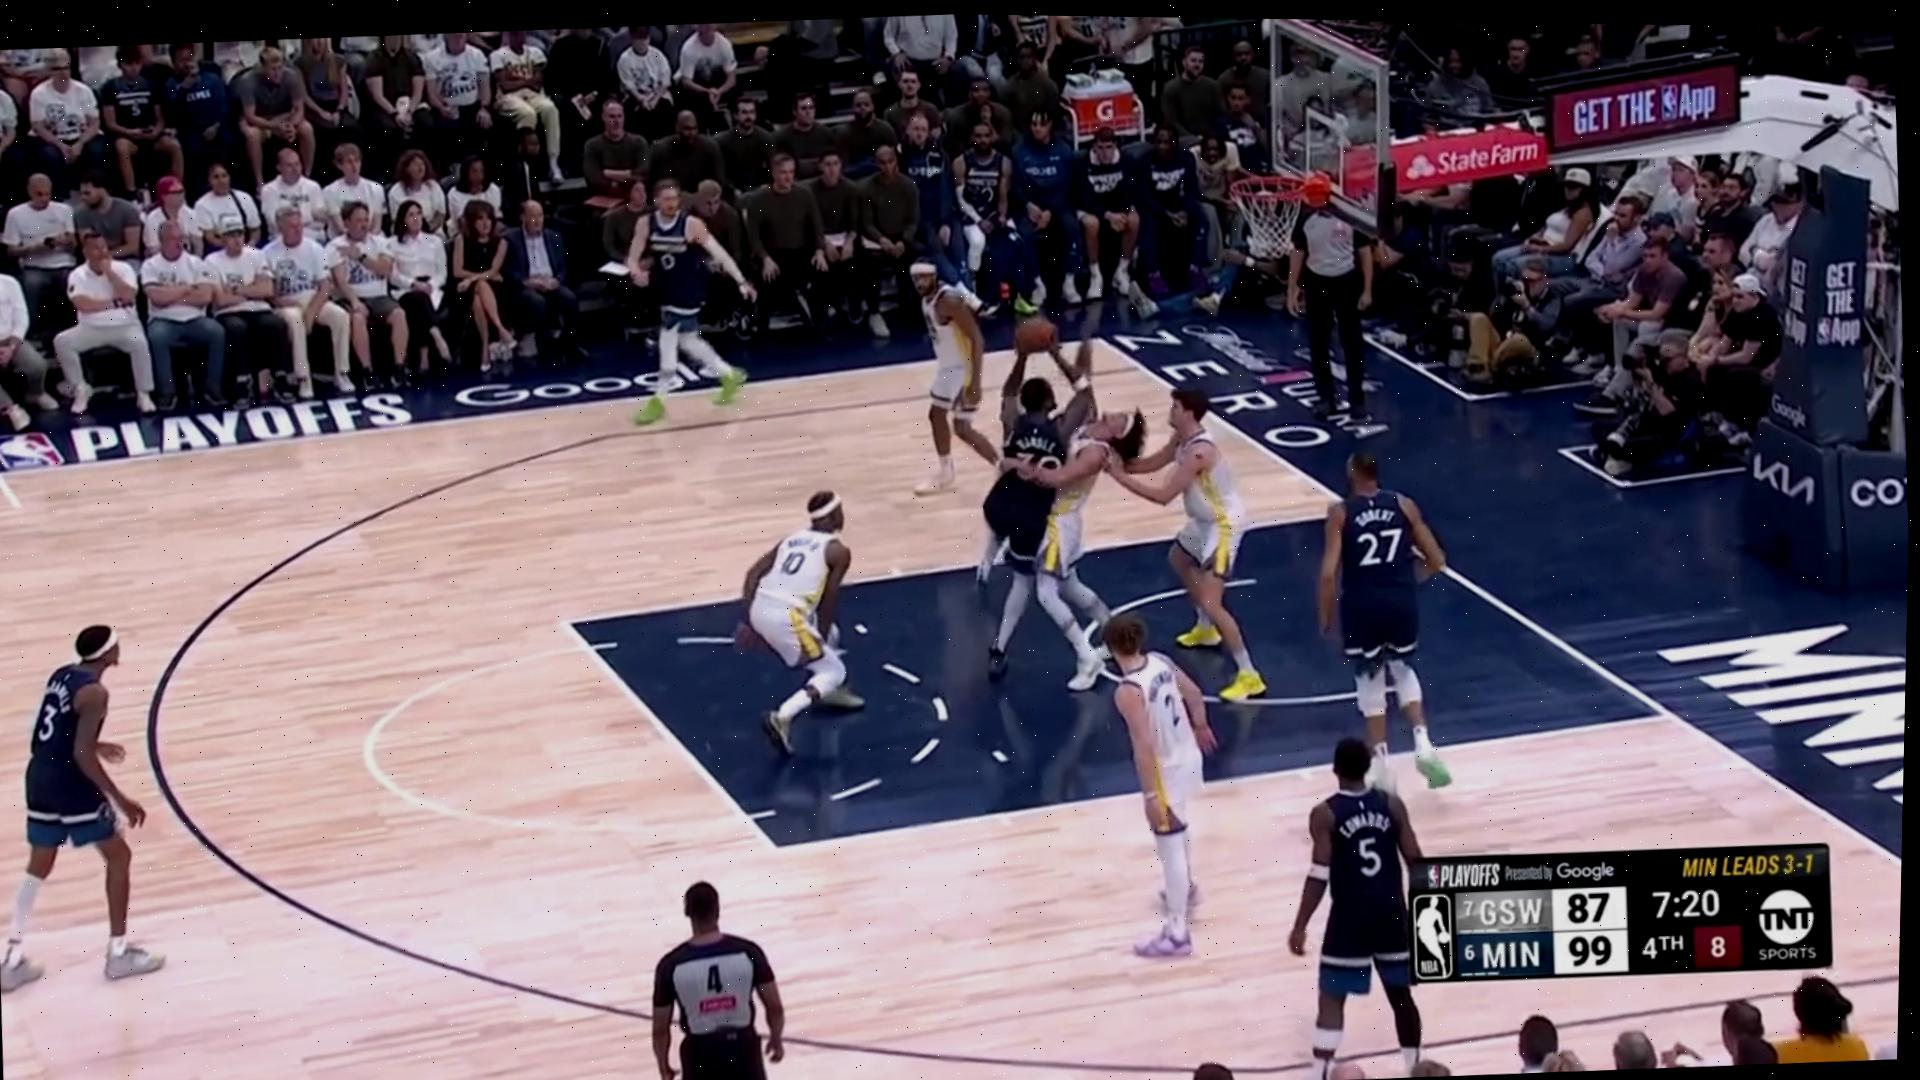foul: (965, 363, 1163, 658)
